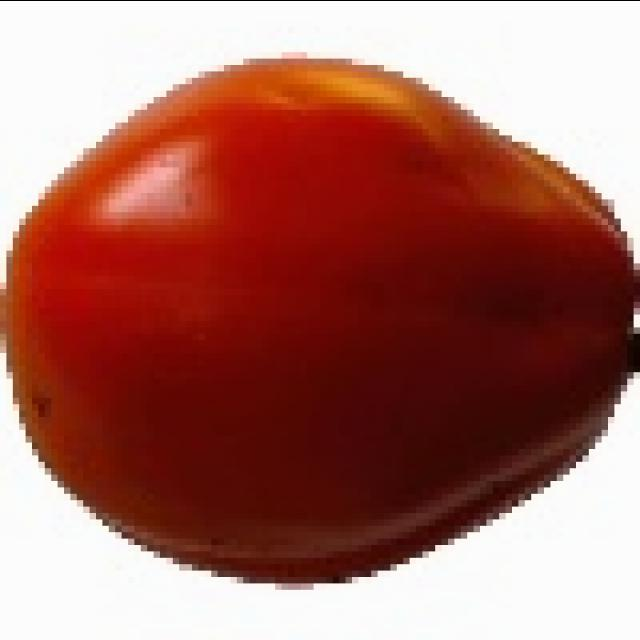tomato: (0, 52, 640, 578)
